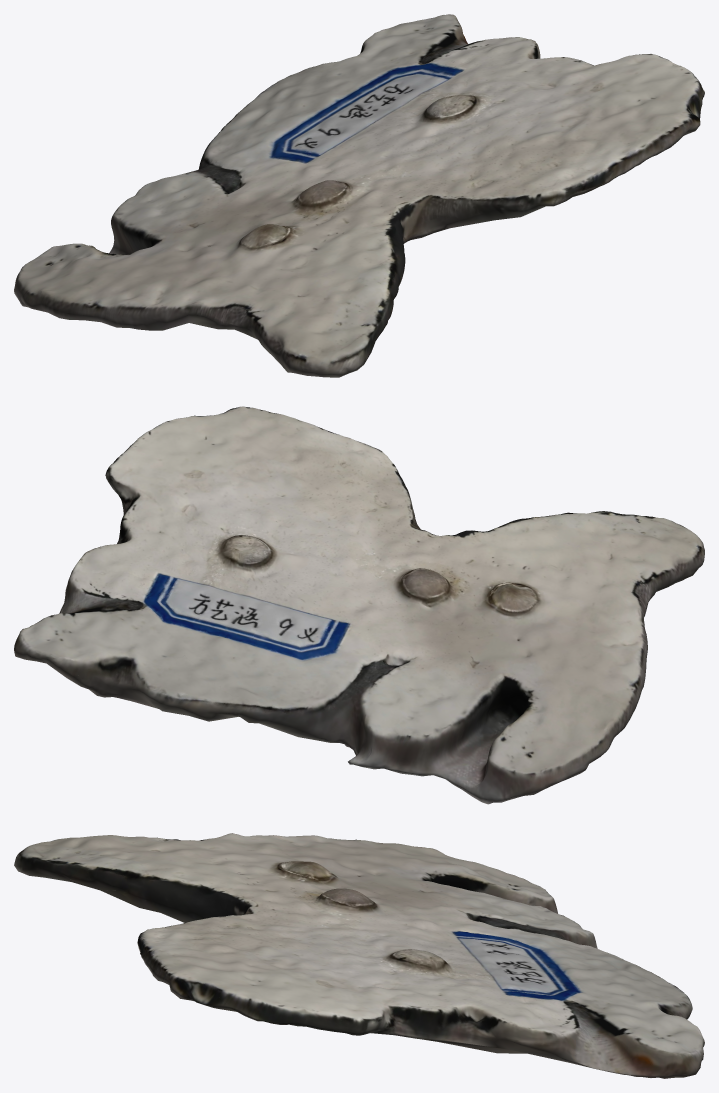
3 renders of one model, top to bottom at view 1: azimuth 30°, elevation 25°; view 2: azimuth 150°, elevation 25°; view 3: azimuth 270°, elevation 25°, orthographic. The views are drawn at different scales.
Bounding box in the file's own units: 0.7757 × 0.2424 × 0.7431.
1 material, 1 textured.
